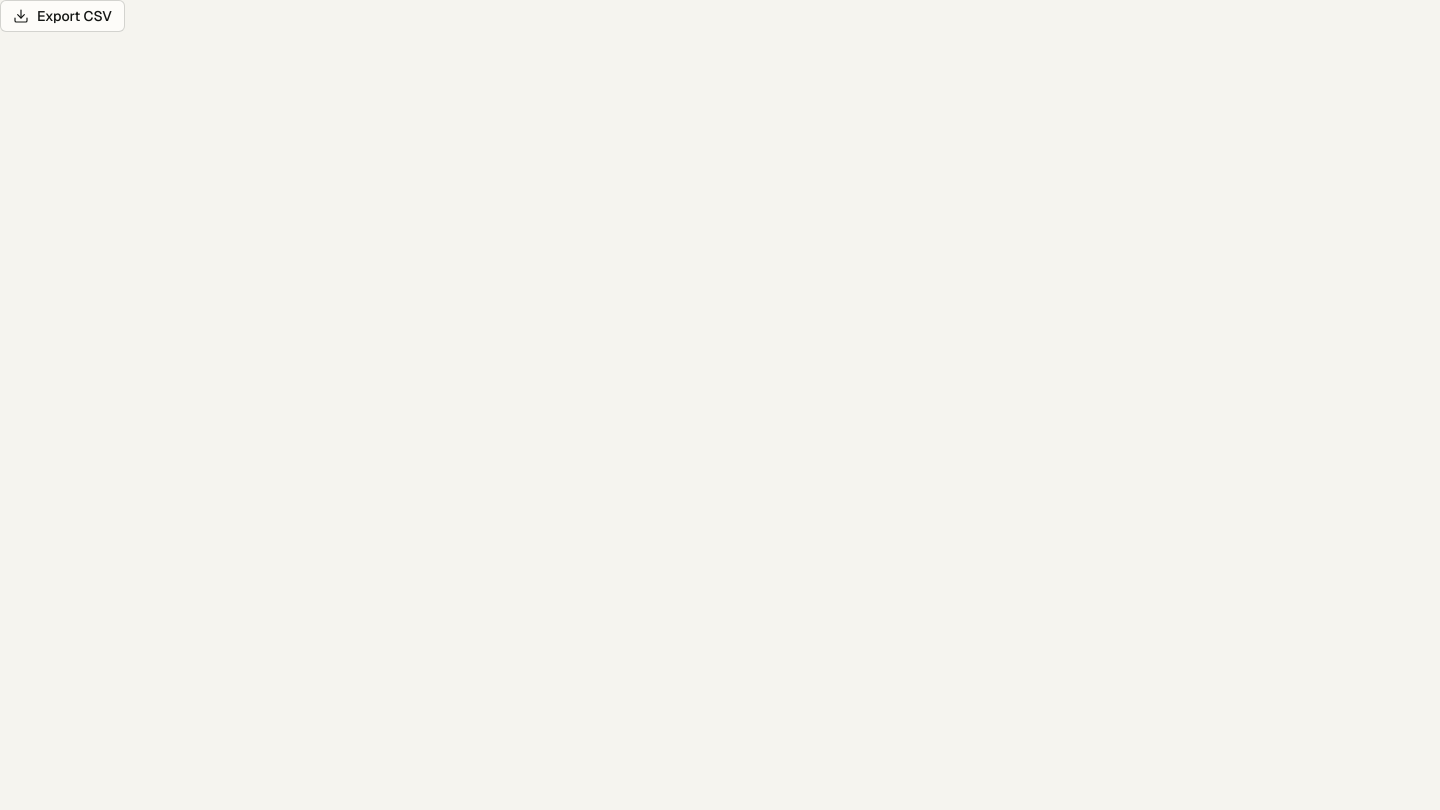
Test: ExportButton › says so when nothing matches
Click the button "Export CSV" at (62,16), box [0,0,125,32]
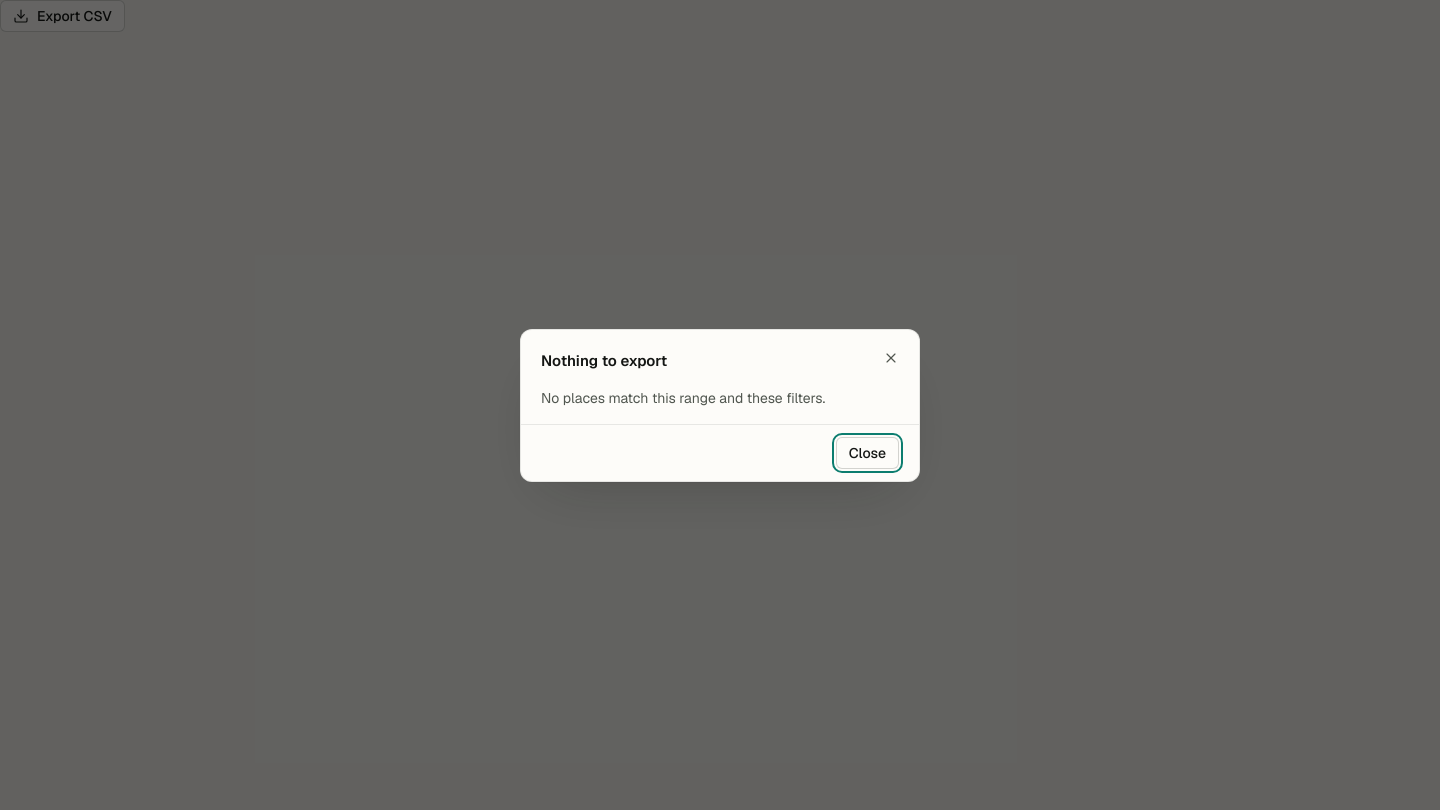
Now the text "No places match this range and these filters." is shown, box [541,388,825,406]
